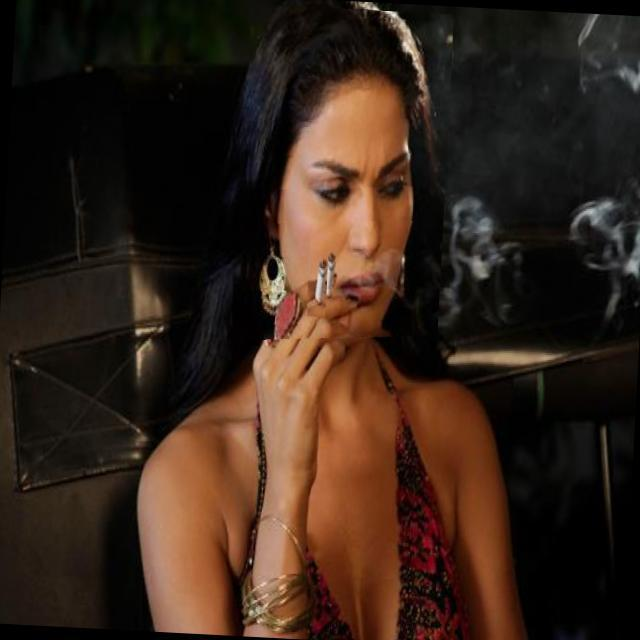cigarette: (306, 238, 329, 318)
